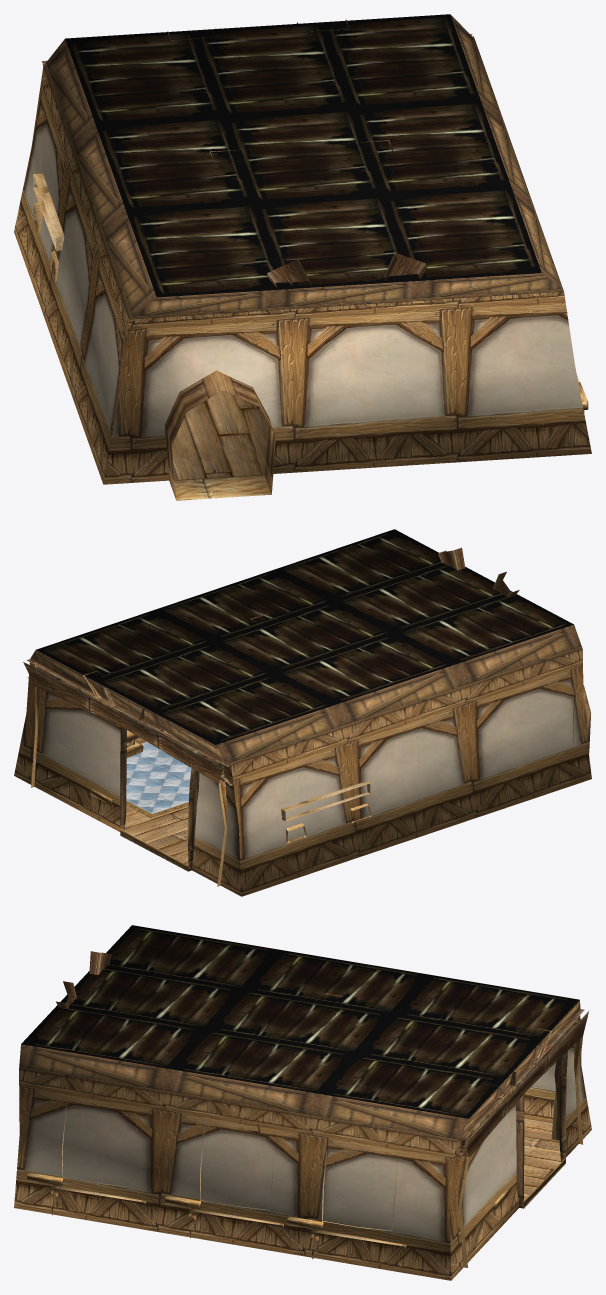
Rendered from stormwind_273.fbx.
3 views of the same model, one above another, from view 1: azimuth 30°, elevation 25°; view 2: azimuth 150°, elevation 25°; view 3: azimuth 270°, elevation 25° (orthographic). The views are drawn at different scales.
Visible parts, largest first — view 1: stormwind_273_50, stormwind_273_48, stormwind_273_56, stormwind_273_51, stormwind_273_53, stormwind_273_49, stormwind_273_54; view 2: stormwind_273_48, stormwind_273_50, stormwind_273_56, stormwind_273_53, stormwind_273_194, stormwind_273_51, stormwind_273_54, stormwind_273_49; view 3: stormwind_273_48, stormwind_273_50, stormwind_273_56, stormwind_273_53, stormwind_273_51, stormwind_273_54, stormwind_273_43.
Part boxes in pixels (<box>): stormwind_273_50: <box>65,14,541,297</box>; stormwind_273_48: <box>14,67,591,484</box>; stormwind_273_56: <box>43,14,563,319</box>; stormwind_273_51: <box>172,390,268,480</box>; stormwind_273_53: <box>33,19,588,500</box>; stormwind_273_49: <box>164,370,584,499</box>; stormwind_273_54: <box>33,173,579,382</box>; stormwind_273_48: <box>14,649,591,896</box>; stormwind_273_50: <box>36,529,573,744</box>; stormwind_273_56: <box>30,624,582,871</box>; stormwind_273_53: <box>23,547,575,886</box>; stormwind_273_194: <box>126,742,191,813</box>; stormwind_273_51: <box>124,737,188,865</box>; stormwind_273_54: <box>127,730,371,842</box>; stormwind_273_49: <box>127,685,591,790</box>; stormwind_273_48: <box>14,1009,591,1280</box>; stormwind_273_50: <box>21,925,579,1118</box>; stormwind_273_56: <box>19,1000,580,1208</box>; stormwind_273_53: <box>27,951,588,1273</box>; stormwind_273_51: <box>524,1118,560,1200</box>; stormwind_273_54: <box>51,1185,406,1246</box>; stormwind_273_43: <box>62,1105,397,1231</box>.
Size of the model in its own units: 20.63 by 7.15 by 22.51.
